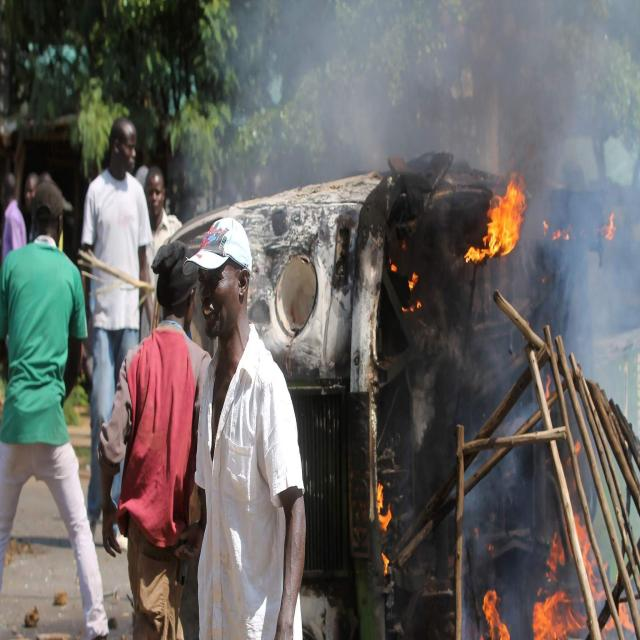fire: (466, 184, 528, 264), (530, 593, 580, 640), (484, 590, 512, 640)
smoke: (253, 5, 633, 156), (547, 167, 640, 364)
